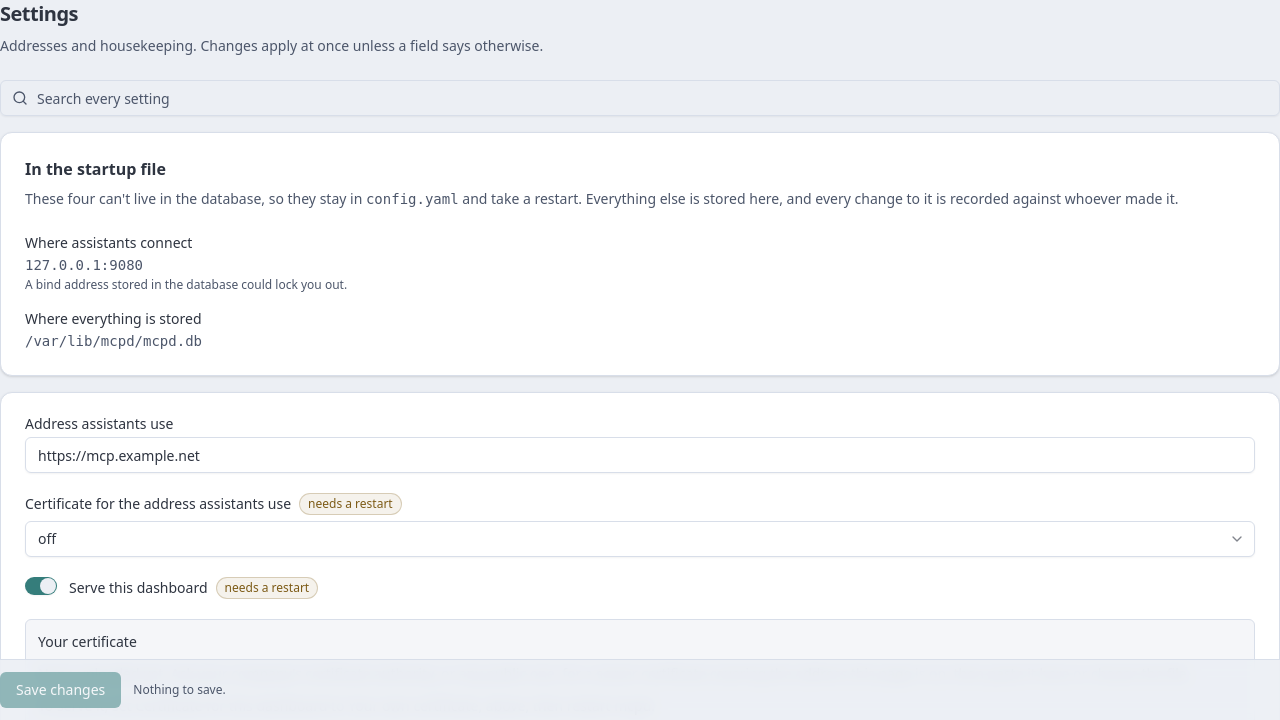
Test: the settings page, after the config file shrank › finds a setting that lives on another tab
This screenshot has width=1280, height=720.
Check: the field labelled "Address assistants use" is shown, box x1=25 y1=437 x2=1255 y2=473
Type "timeout" into the field with placeholder "Search every setting" at (640, 98), box x1=0 y1=80 x2=1279 y2=116
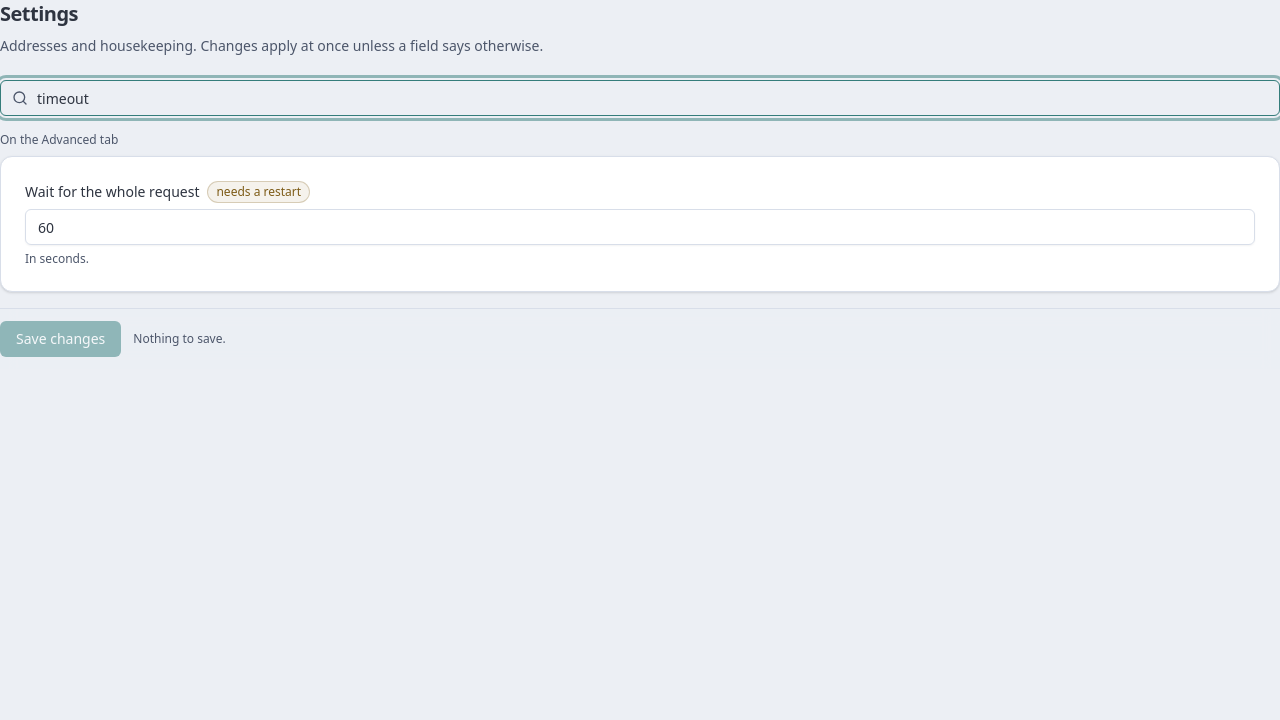
Check: the number field labelled "Wait for the whole request needs a restart" is shown, box x1=25 y1=209 x2=1255 y2=245
Check: the label labelled "Address assistants use" is gone
